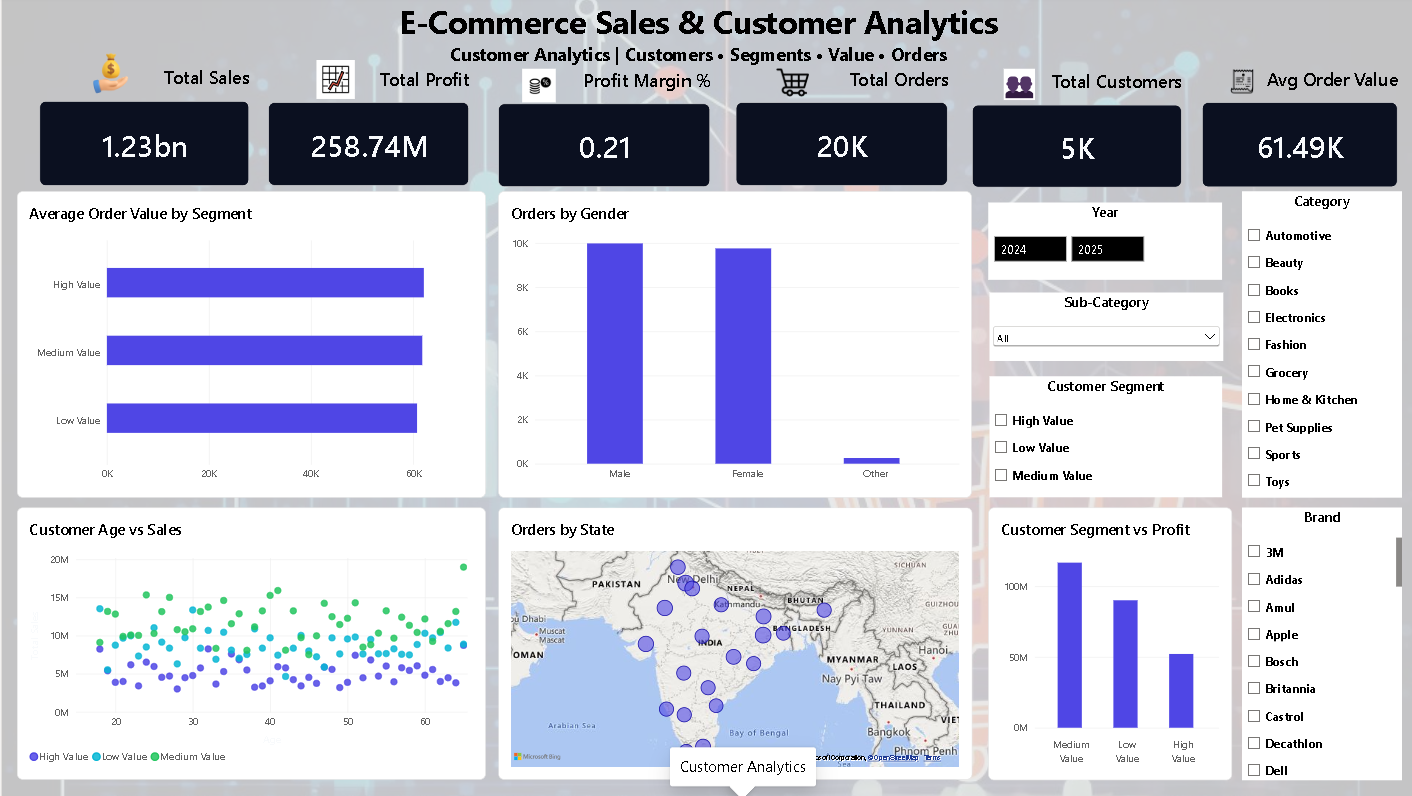

What the dashboard file says about the page in this screenshot:
{"tool":"powerbi","page":{"name":"Customer Analytics","canvas":[1920,1080],"ordinal":3},"visuals":[{"type":"textbox","box":[116.9,0,1653.1,130.2],"z":0},{"type":"cardVisual","title":"Total Sales","fields":{"Data":["FactSales.Total Sales"]},"box":[50.8,88.1,284.5,164.3],"z":1000},{"type":"cardVisual","title":"Total Profit","fields":{"Data":["FactSales.Total Profit"]},"box":[360.8,89.8,272.7,162.6],"z":2000},{"type":"cardVisual","title":"Avg Order Value","fields":{"Data":["FactSales.Average Order Value"]},"box":[1626,89.8,265.9,164.3],"z":3000},{"type":"cardVisual","title":"Total Orders","fields":{"Data":["FactSales.Total Orders"]},"box":[994.2,89.8,287.9,162.6],"z":4000},{"type":"cardVisual","title":"Profit Margin %","fields":{"Data":["FactSales.Profit Margin %"]},"box":[672.4,91.5,287.9,162.6],"z":5000},{"type":"cardVisual","title":"Total Customers","fields":{"Data":["FactSales.Total Customers"]},"box":[1314.3,93.2,284.5,160.9],"z":6000},{"type":"slicer","title":"Year ","fields":{"Values":["DimDate.Year"]},"box":[1336.4,274.4,316.7,105],"z":7000},{"type":"slicer","title":"Category","fields":{"Values":["DimProduct.Category"]},"box":[1680.2,259.1,216.8,415],"z":8000},{"type":"image","box":[74.5,66.1,145.7,69.4],"z":9000},{"type":"image","box":[326.9,81.3,250.7,52.5],"z":10000},{"type":"image","box":[577.6,93.2,299.8,45.7],"z":11000},{"type":"image","box":[921.4,89.8,299.8,44],"z":12000},{"type":"image","box":[1238.1,93.2,281.2,42.3],"z":13000},{"type":"image","box":[1536.2,89.8,287.9,40.6],"z":14000},{"type":"slicer","title":"Sub-Category","fields":{"Values":["DimProduct.SubCategory"]},"box":[1338,396.3,316.7,93.2],"z":15000},{"type":"slicer","title":"Brand","fields":{"Values":["DimProduct.Brand"]},"box":[1680.2,687.7,216.8,369.2],"z":16000},{"type":"slicer","title":"Customer Segment","fields":{"Values":["DimCustomer.Segment"]},"box":[1338,509.8,315,164.3],"z":17000},{"type":"columnChart","title":"Customer Segment vs Profit","fields":{"Category":["DimCustomer.Segment"],"Y":["FactSales.Total Profit"]},"box":[1336.4,687.7,330.3,369.2],"z":18000},{"type":"barChart","title":"Average Order Value by Segment","fields":{"Category":["DimCustomer.Segment"],"Y":["FactSales.Average Order Value"]},"box":[20.3,259.1,635.1,415],"z":19000},{"type":"scatterChart","title":"Customer Age vs Sales","fields":{"X":["DimCustomer.Age"],"Y":["FactSales.Total Sales"],"Series":["DimCustomer.Segment"]},"box":[20,688,635,369],"z":20000},{"type":"clusteredColumnChart","title":"Orders by Gender","fields":{"Category":["DimCustomer.Gender"],"Y":["FactSales.Total Orders"]},"box":[672.4,259.1,641.9,415],"z":21000},{"type":"map","title":"Orders by State","fields":{"Category":["DimCustomer.State"],"Size":["FactSales.Total Orders"]},"box":[672,688,642,369],"z":22000}]}

Visuals, with their boxes in screenshot pixels (x1, y1, x2, y2), scaled from the page's 1920x1080 canvas onto the 1412x796 screenshot:
textbox: 86:0:1302:96
"Total Sales" cardVisual: 37:65:247:186
"Total Profit" cardVisual: 265:66:466:186
"Avg Order Value" cardVisual: 1196:66:1391:187
"Total Orders" cardVisual: 731:66:943:186
"Profit Margin %" cardVisual: 494:67:706:187
"Total Customers" cardVisual: 967:69:1176:187
"Year " slicer: 983:202:1216:280
"Category" slicer: 1236:191:1395:497
image: 55:49:162:100
image: 240:60:425:99
image: 425:69:645:102
image: 678:66:898:99
image: 911:69:1117:100
image: 1130:66:1341:96
"Sub-Category" slicer: 984:292:1217:361
"Brand" slicer: 1236:507:1395:779
"Customer Segment" slicer: 984:376:1216:497
"Customer Segment vs Profit" columnChart: 983:507:1226:779
"Average Order Value by Segment" barChart: 15:191:482:497
"Customer Age vs Sales" scatterChart: 15:507:482:779
"Orders by Gender" clusteredColumnChart: 494:191:967:497
"Orders by State" map: 494:507:966:779
